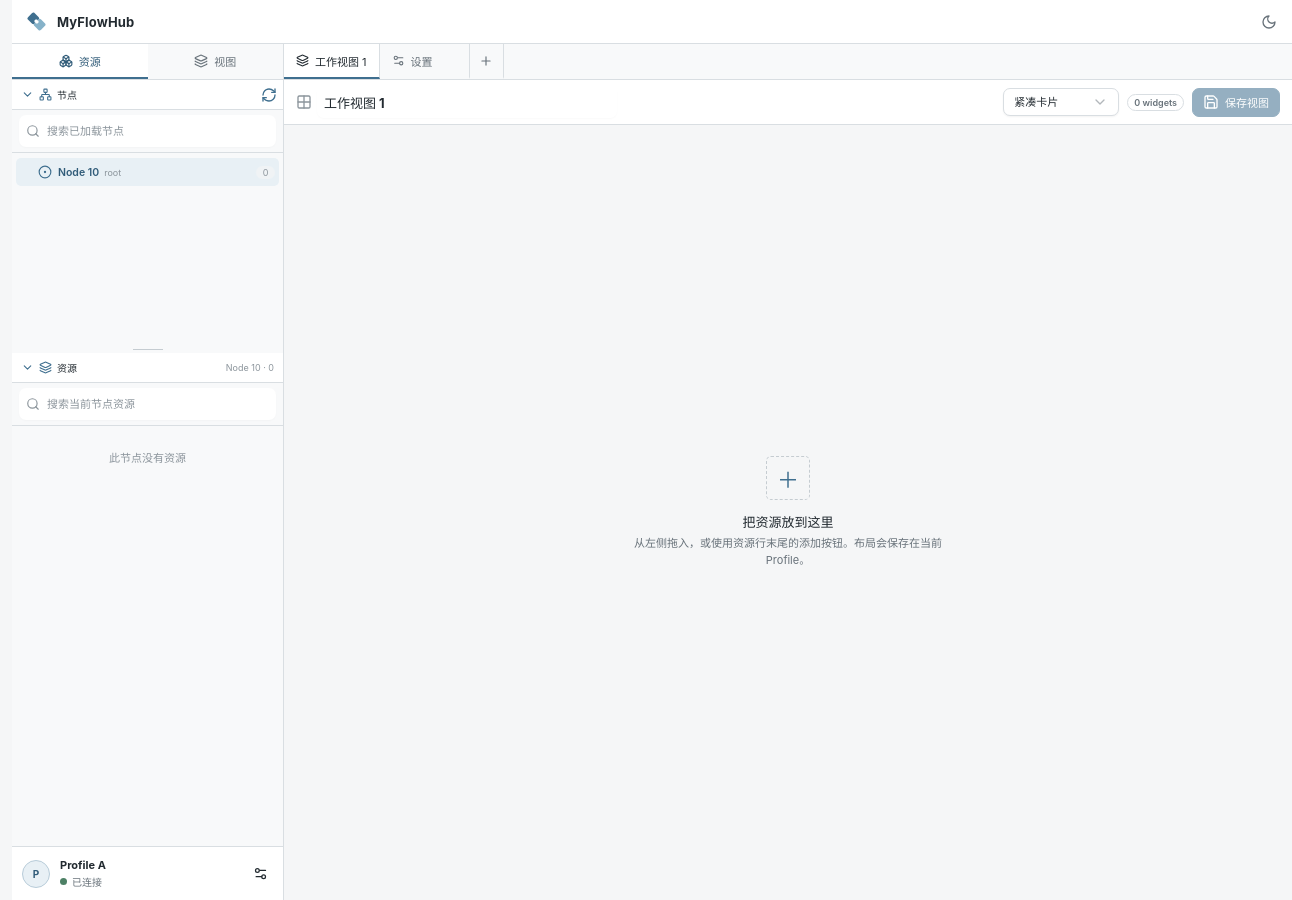
Test: desktop discovery integration › refreshes an initially empty parent from the node heading without collapsing it or repeating in-flight requests
Expected: the list item "Node 10 root" is shown, [36,158,252,186]
Expected: the header named "刷新节点树" reads "节点", [12,80,254,109]
Click the button named "刷新节点树" at (268, 94), box [254,80,283,109]
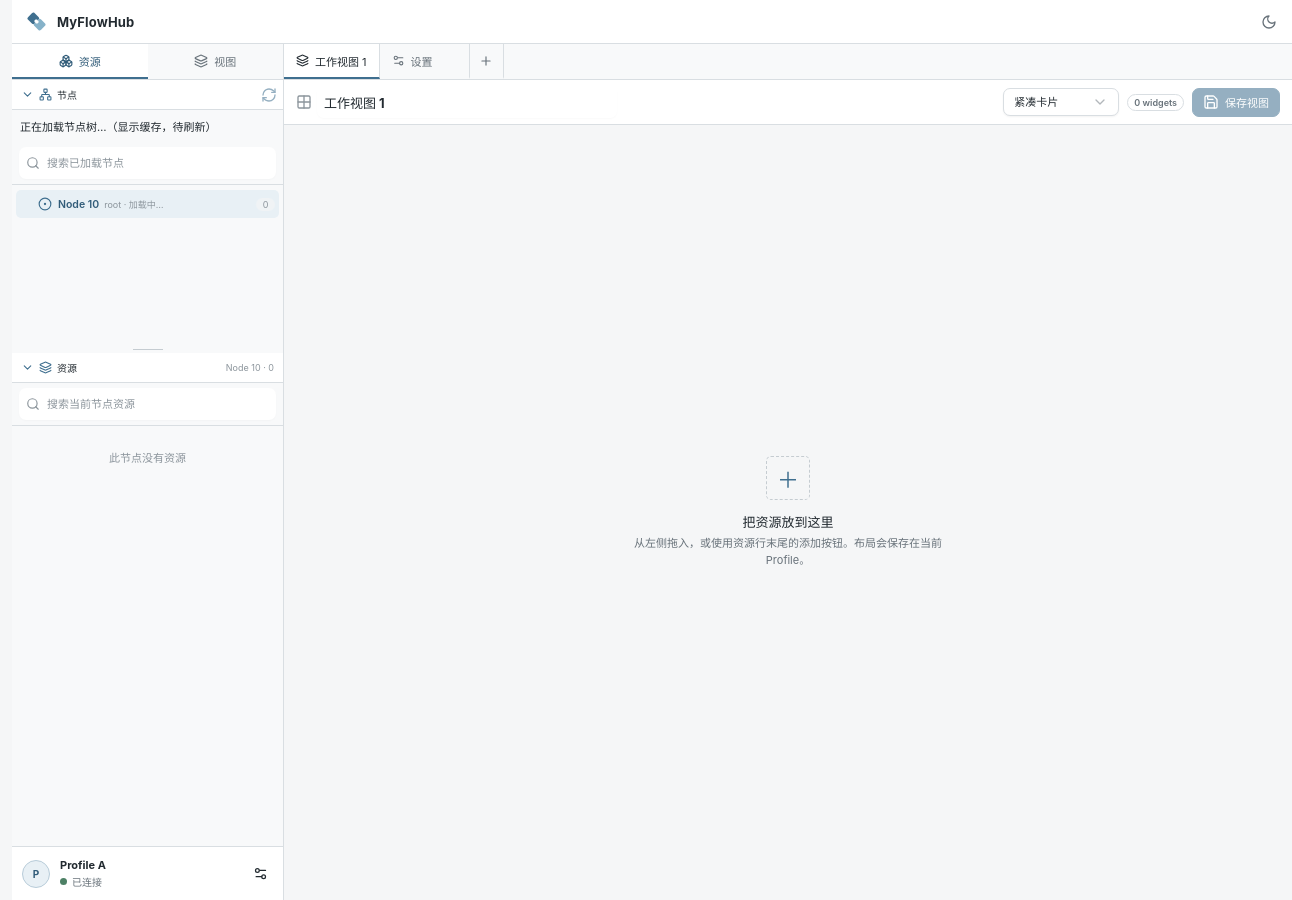
Result: the button named "刷新节点树" is disabled
Click the button named "刷新节点树" at (268, 94), box [254,80,283,109]
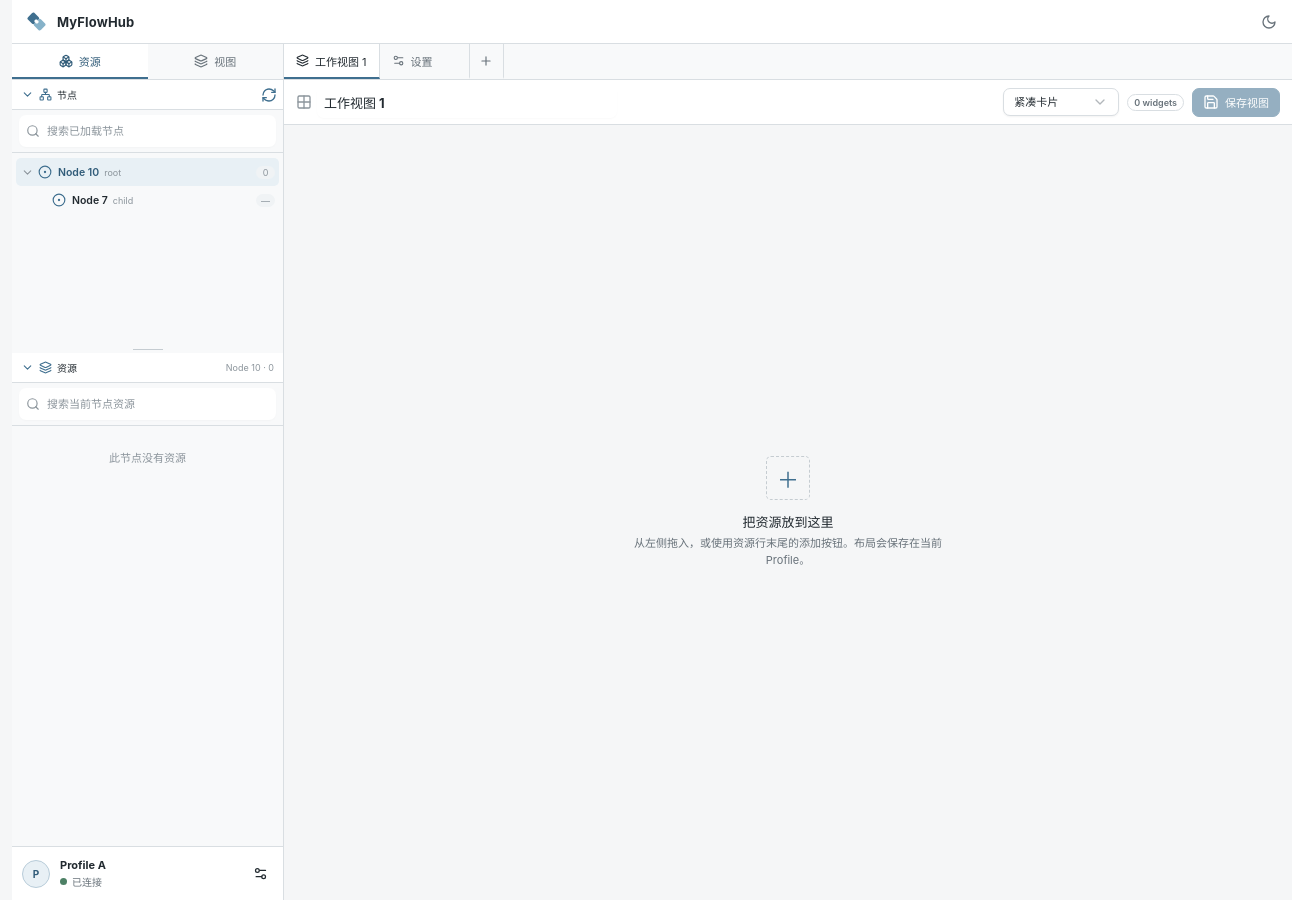
Result: the list item "Node 7 child" is shown at [50,186,252,214]
Result: the button named "刷新节点树" is enabled at [254,80,283,109]
